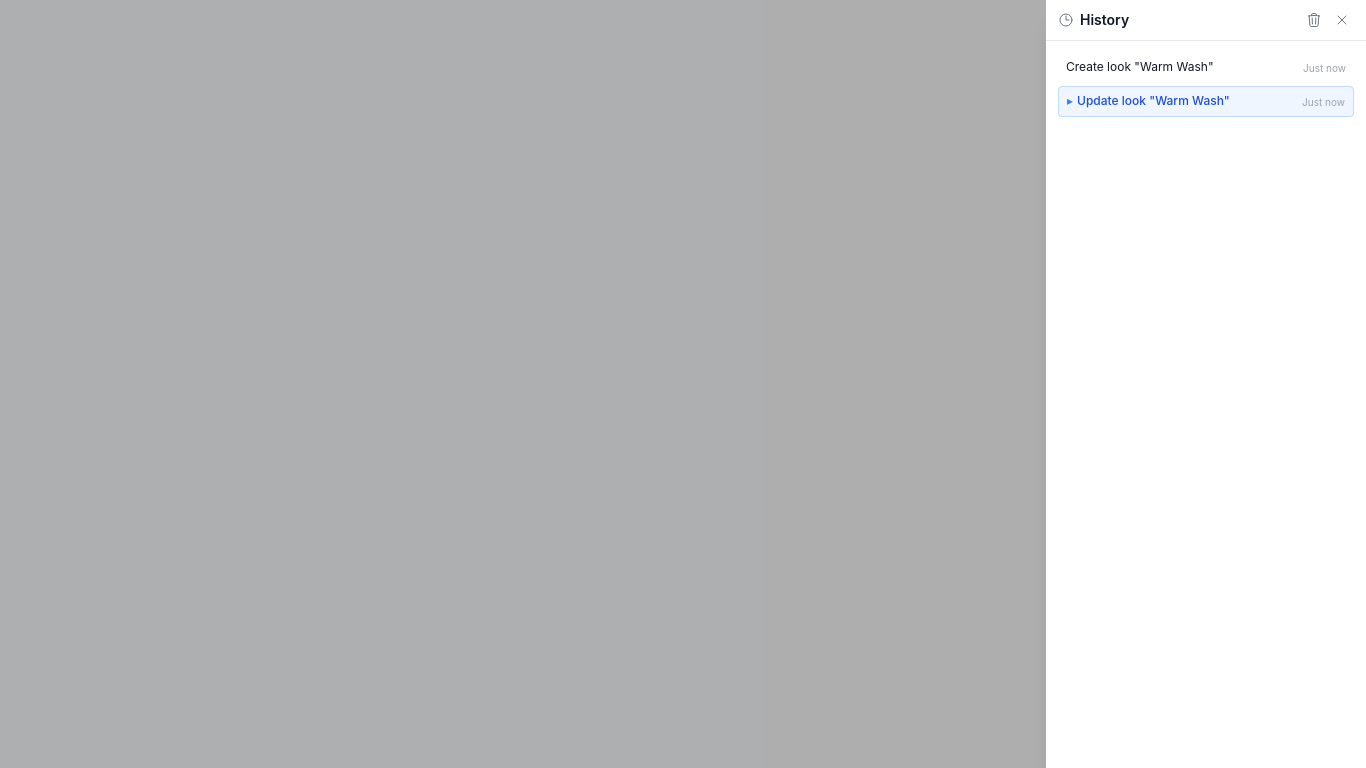
Test: OperationHistoryPanel error handling › displays error toast when clearHistory fails
The width and height of the screenshot is (1366, 768).
Check: the text "Create look \"Warm Wash\"" is shown, box 1066,59 -> 1214,76
# Click clear history button
Click the button named "clear history". click: (1314, 20)
box: 1302,8 -> 1326,32
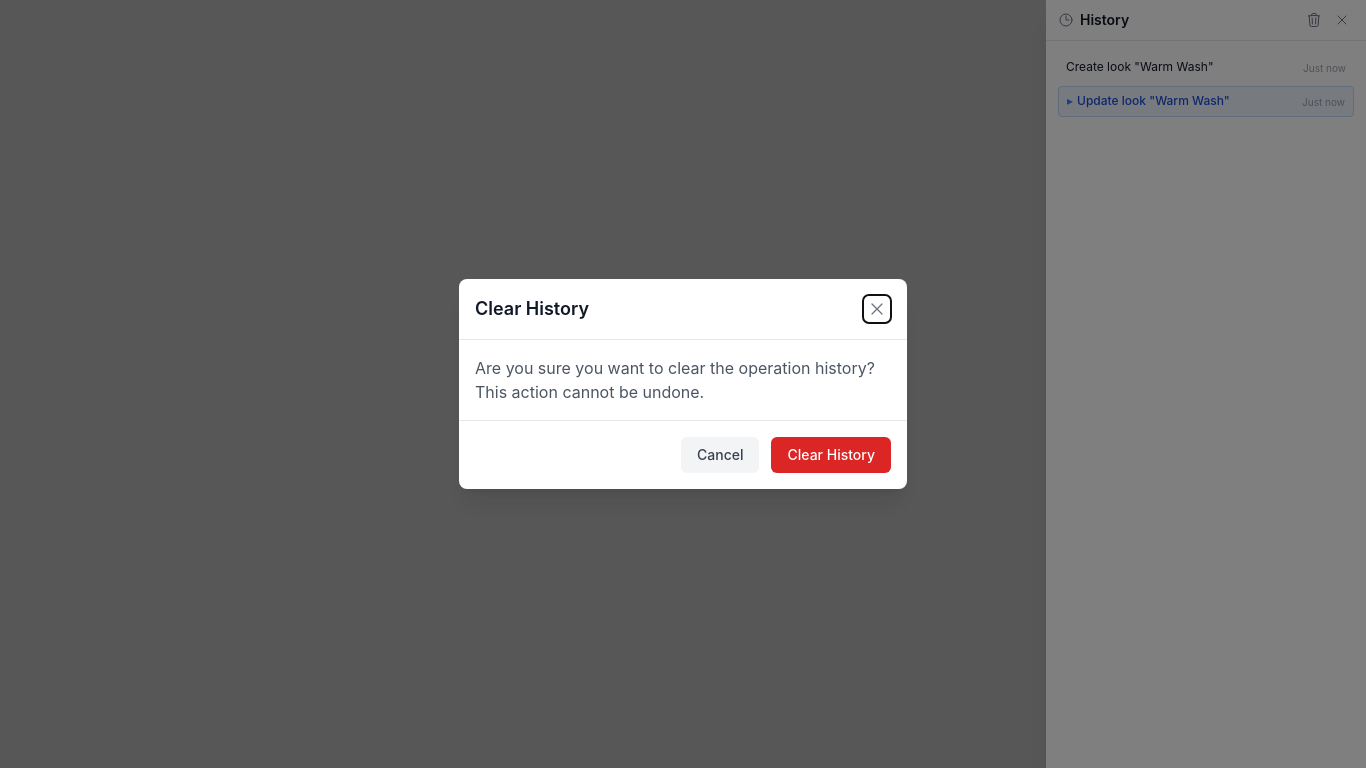
Check: the dialog with test id "clear-history-modal" is shown, box 459,279 -> 907,489
# Click confirm button
Click the button with test id "clear-history-confirm". click: (831, 455)
box: 772,437 -> 891,473
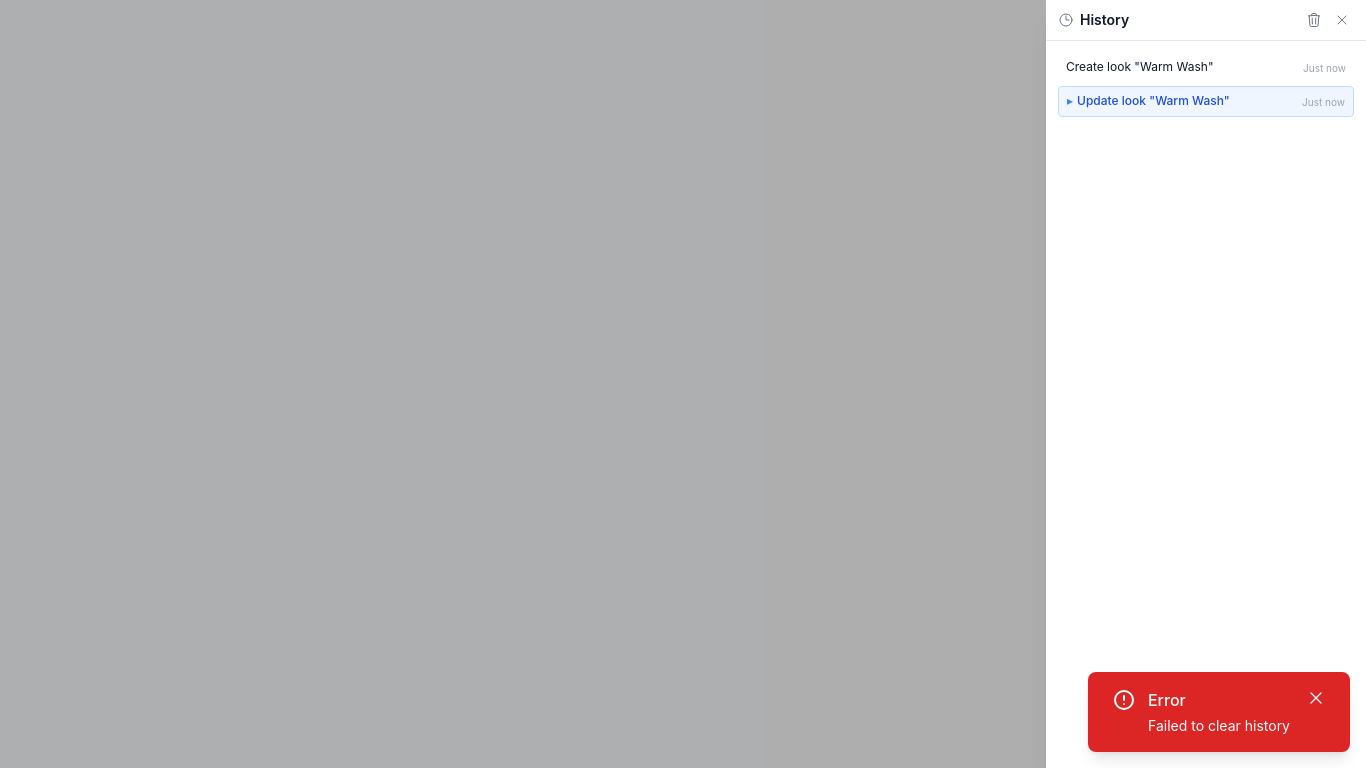
Check: the heading "Error" is shown, box 1148,690 -> 1186,710
Check: the text "Failed to clear history" is shown, box 1148,716 -> 1290,736
